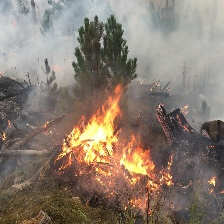fire: (58, 81, 164, 194), (204, 174, 222, 197)
smoke: (4, 2, 224, 99)
